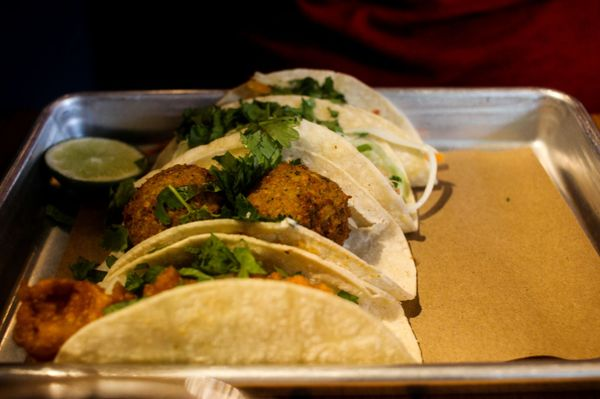soup: (68, 217, 422, 369)
sushi: (43, 138, 147, 206)
